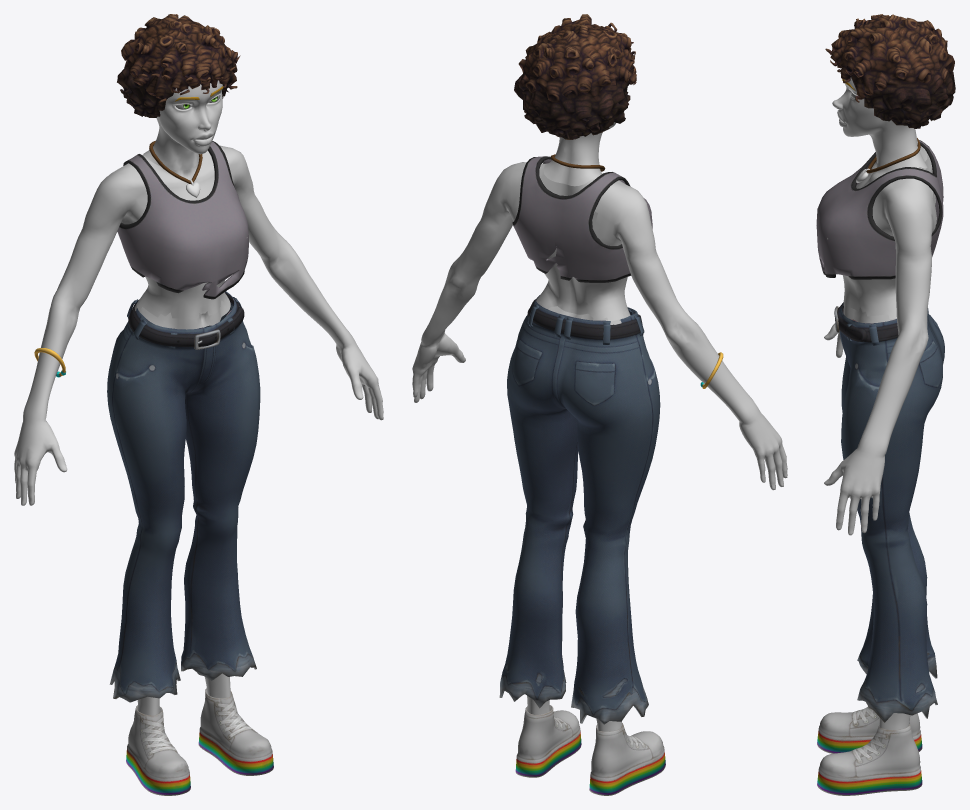
File: Character 5.fbx
The picture shows the model from 3 angles, left to right: view 1: azimuth 30°, elevation 25°; view 2: azimuth 150°, elevation 25°; view 3: azimuth 270°, elevation 25°; orthographic projection.
Parts seen in each view (by area): view 1: pant jean 2, body.002, top 7, w hair afro, shoes 6, head, body.001, legs 2; view 2: pant jean 2, body.002, w hair afro, top 7, shoes 6, body.001, head; view 3: pant jean 2, body.002, w hair afro, top 7, shoes 6, head, body.001, necklace 2, legs 2.
Part boxes in pixels (x1,y1,x2,y2): pant jean 2: [107, 291, 260, 702]; body.002: [14, 145, 383, 505]; top 7: [117, 141, 248, 299]; w hair afro: [117, 14, 240, 117]; shoes 6: [126, 688, 273, 795]; head: [143, 80, 223, 170]; body.001: [136, 237, 247, 319]; legs 2: [137, 673, 230, 715]; pant jean 2: [499, 295, 660, 724]; body.002: [412, 162, 787, 490]; w hair afro: [514, 14, 636, 139]; top 7: [512, 156, 652, 282]; shoes 6: [515, 705, 665, 795]; body.001: [536, 211, 627, 321]; head: [543, 122, 615, 186]; pant jean 2: [834, 302, 944, 722]; body.002: [824, 151, 936, 535]; w hair afro: [825, 14, 955, 128]; top 7: [816, 140, 943, 279]; shoes 6: [817, 706, 922, 795]; head: [832, 77, 927, 169]; body.001: [827, 167, 936, 319]; necklace 2: [856, 138, 920, 182]; legs 2: [879, 713, 910, 729].
Size of the model in its own units: 96.47 by 190 by 32.12.
